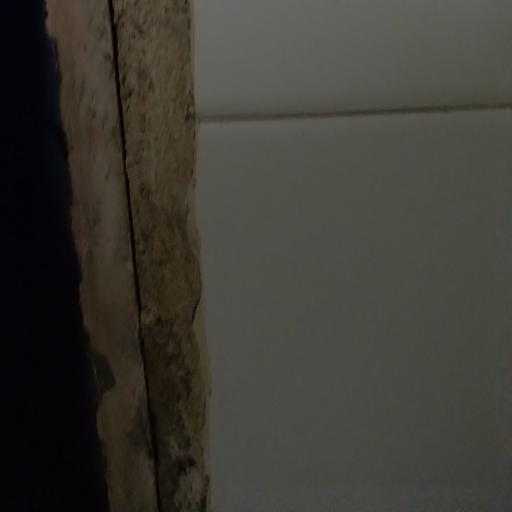spalling: (31, 0, 244, 512)
